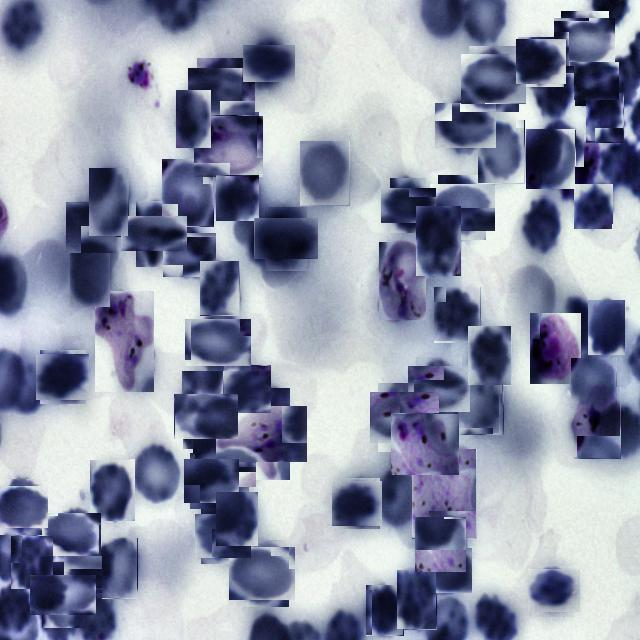difficult: (530, 313, 582, 385)
red blood cell: (374, 387, 434, 448), (232, 544, 292, 604), (162, 159, 214, 227), (465, 50, 523, 108), (192, 62, 250, 120), (189, 314, 247, 371), (300, 141, 350, 206), (434, 180, 491, 236), (130, 440, 180, 503), (416, 206, 461, 276), (197, 435, 253, 491), (178, 389, 234, 444), (478, 120, 525, 184), (558, 15, 612, 70), (412, 361, 466, 416), (526, 129, 575, 189), (36, 568, 90, 622), (415, 517, 467, 573), (70, 235, 110, 307), (438, 99, 492, 152), (259, 212, 312, 265), (90, 458, 135, 520), (89, 168, 129, 237), (377, 464, 418, 530), (46, 509, 98, 561), (128, 208, 180, 260), (71, 548, 123, 600), (468, 326, 512, 386), (434, 286, 481, 342), (198, 510, 248, 561), (520, 197, 564, 254), (420, 545, 470, 595), (66, 202, 116, 252), (38, 352, 88, 402), (187, 456, 237, 506), (182, 371, 225, 428), (165, 230, 215, 279), (458, 380, 503, 434), (397, 570, 437, 630), (11, 536, 54, 590), (530, 567, 578, 615), (334, 480, 382, 528), (517, 38, 565, 86), (571, 358, 617, 408), (532, 66, 574, 120), (216, 492, 258, 546), (0, 483, 46, 532), (224, 366, 272, 412), (200, 261, 240, 316), (102, 538, 138, 599), (588, 300, 626, 356), (385, 182, 431, 228), (534, 126, 580, 172), (176, 90, 211, 148), (247, 41, 292, 86), (216, 174, 259, 220), (366, 585, 404, 636), (572, 60, 616, 104), (586, 92, 624, 142), (574, 184, 614, 230)
ring: (412, 448, 477, 538)
trophozoite: (95, 290, 155, 392), (225, 397, 299, 471), (195, 114, 261, 180), (391, 412, 459, 474), (379, 242, 426, 320), (574, 386, 621, 458)
